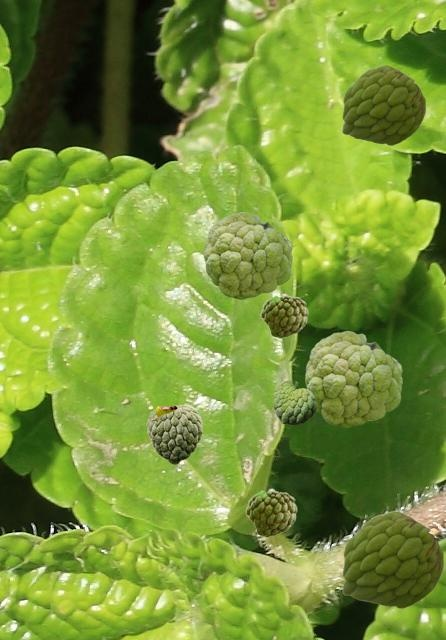atis: (342, 511, 442, 607), (305, 331, 401, 426), (204, 212, 291, 298), (342, 65, 424, 144), (146, 404, 201, 463), (245, 488, 296, 536), (260, 293, 307, 337), (273, 380, 315, 424)
